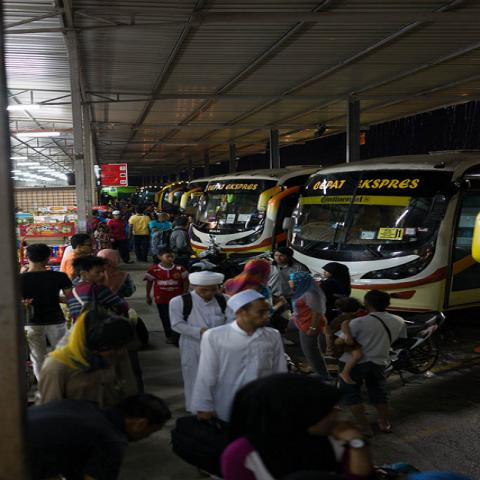bus: (285, 156, 479, 317), (189, 163, 325, 256), (174, 176, 226, 214), (155, 181, 189, 210), (469, 208, 479, 264)
motorcycle: (382, 309, 448, 386), (189, 233, 275, 275)
